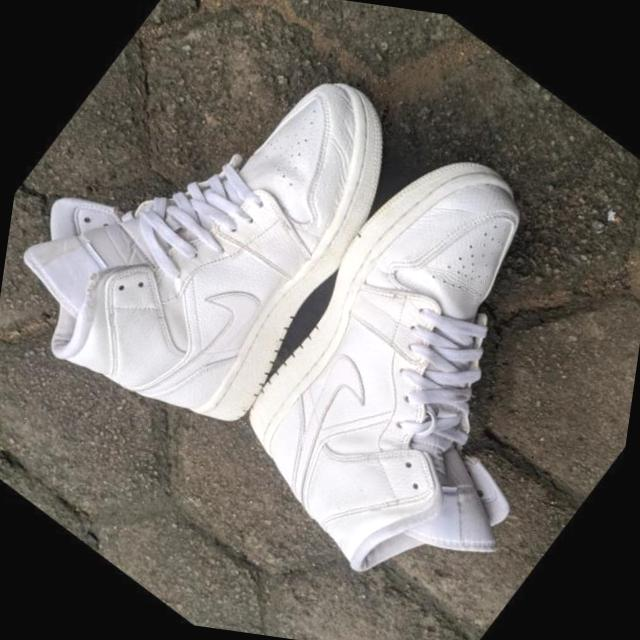nike_fake_jordan: (182, 95, 640, 640), (0, 0, 457, 493)
